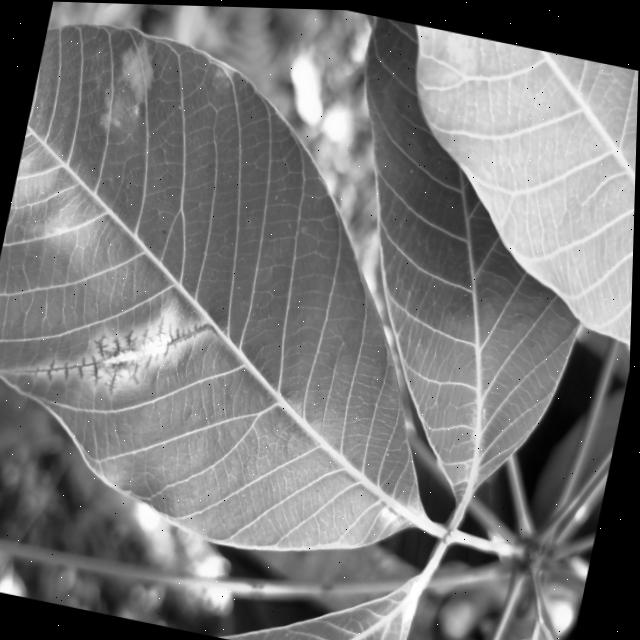Corynespora: (15, 286, 221, 411)
